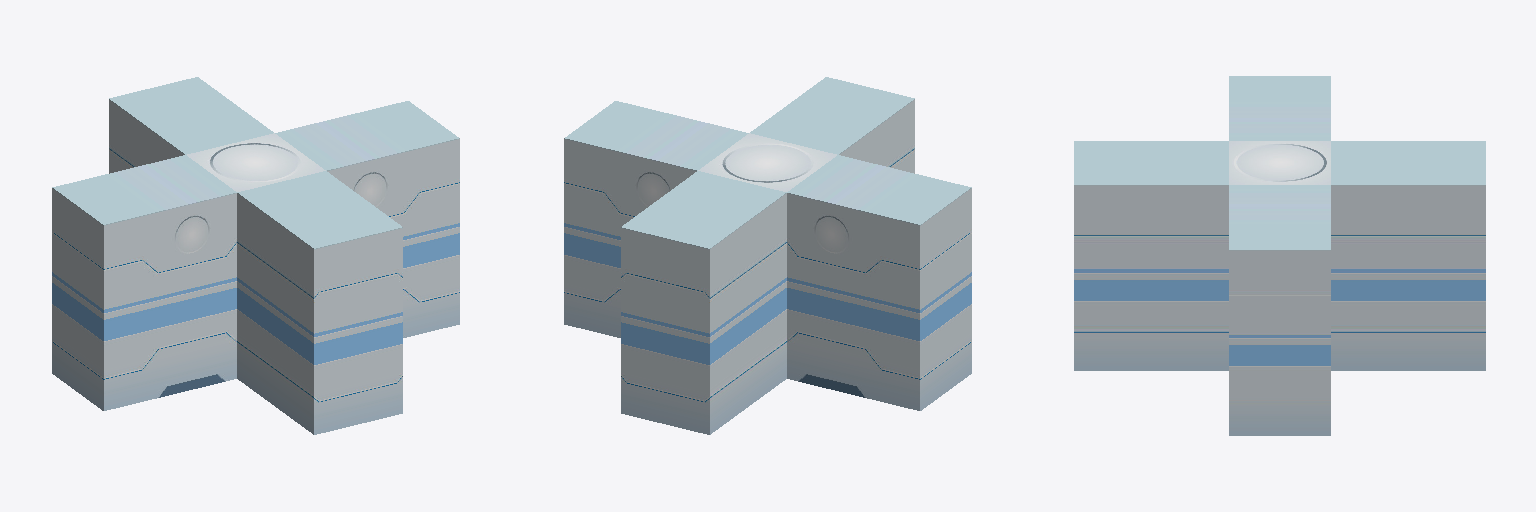
The picture shows the model from 3 angles: view 1: azimuth 30°, elevation 25°; view 2: azimuth 150°, elevation 25°; view 3: azimuth 270°, elevation 25°; orthographic projection.
Parts seen in each view (by area): view 1: mesh01; view 2: mesh01; view 3: mesh01.
Part boxes in pixels (x1,y1,x2,y2): mesh01: (52,77,459,434); mesh01: (564,77,971,434); mesh01: (1074,76,1485,435).
Bounding box in the file's own units: 80 × 40 × 80.
Materials: 1 (1 with a texture image).